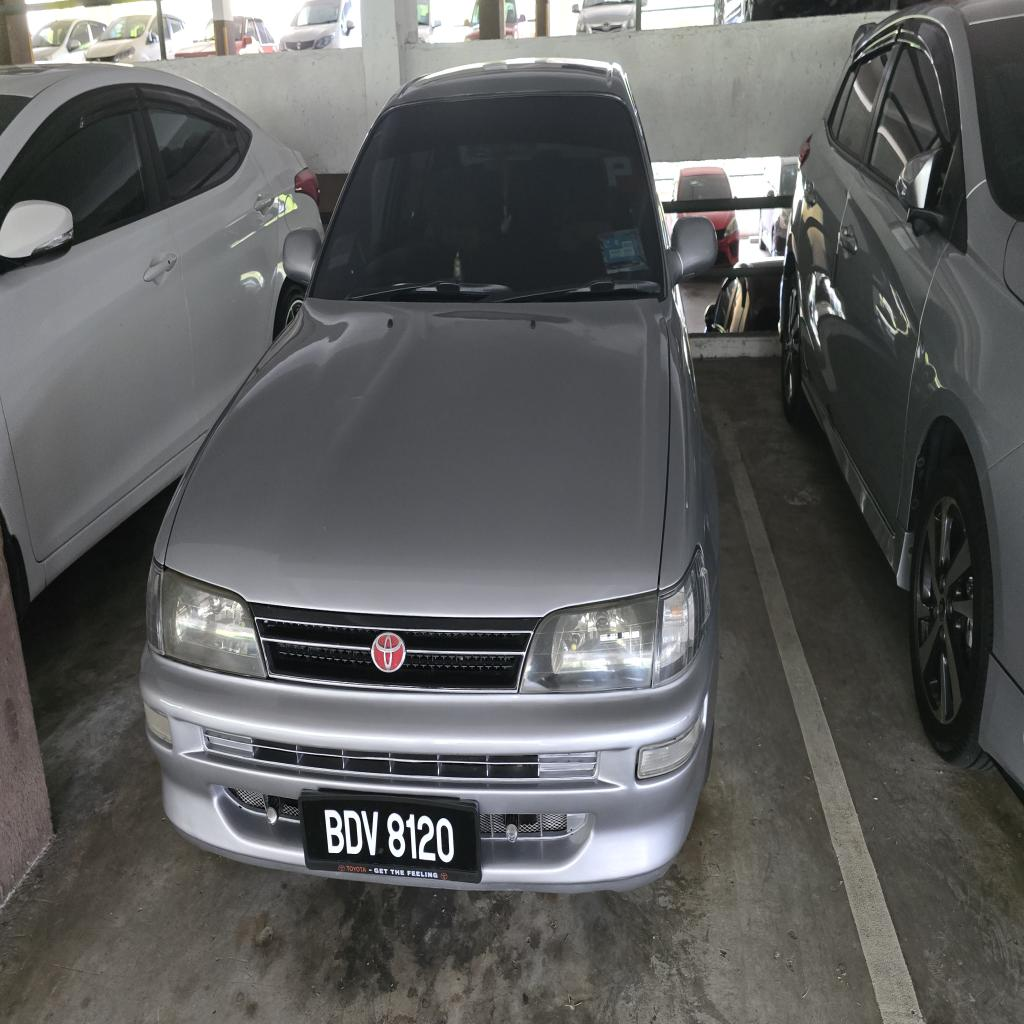car: (141, 61, 718, 890)
car plate: (300, 792, 481, 882)
